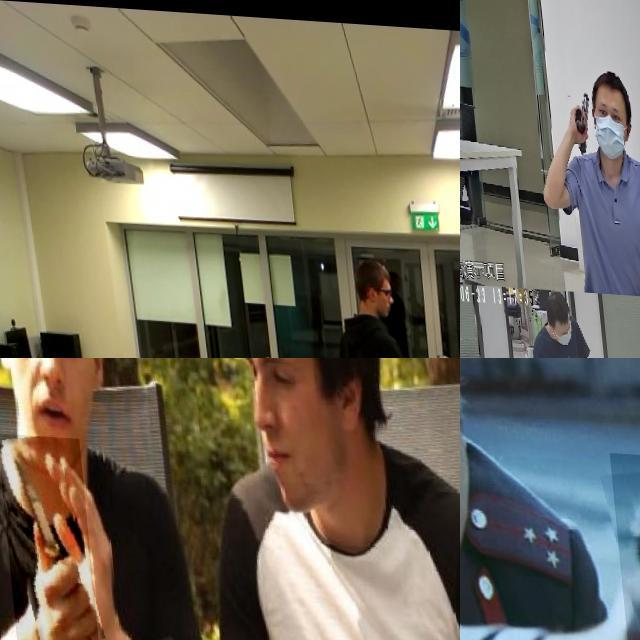-: (0, 432, 89, 640)
gun-knife-thesis - v11 Yolov5 augmented: (565, 81, 589, 150), (460, 15, 467, 49)
